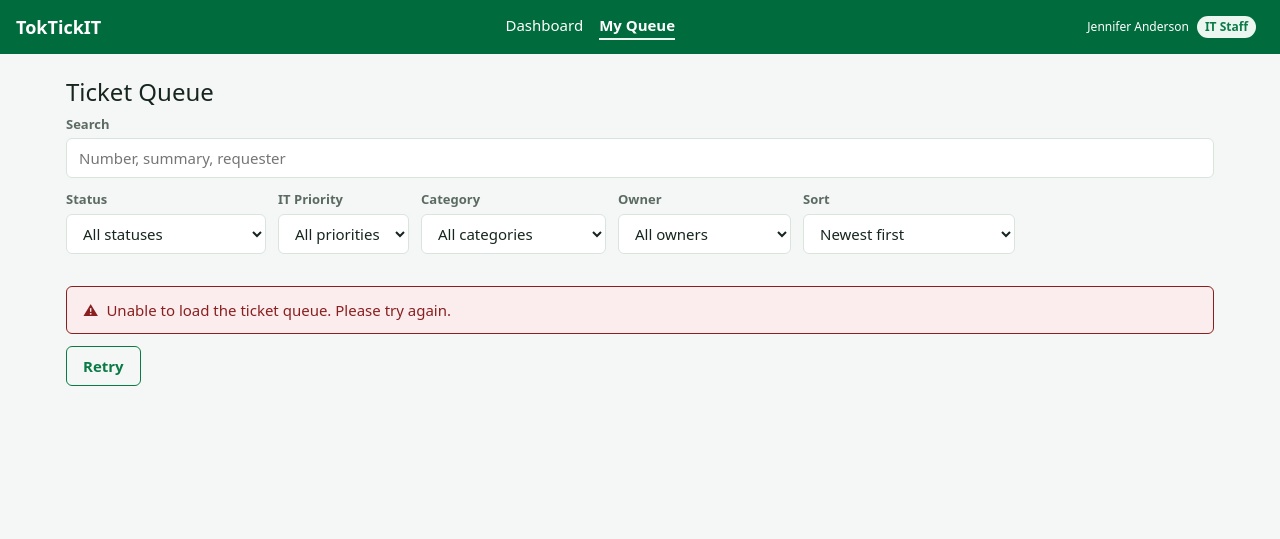
Test: IT Staff Ticket Queue screen › shows a safe failure state with Retry when the request fails
Expected: the text "Unable to load the ticket queue. Please try again." is shown, [106,299,451,321]
Click the button "Retry". click: (103, 366)
box: [66,346,141,386]
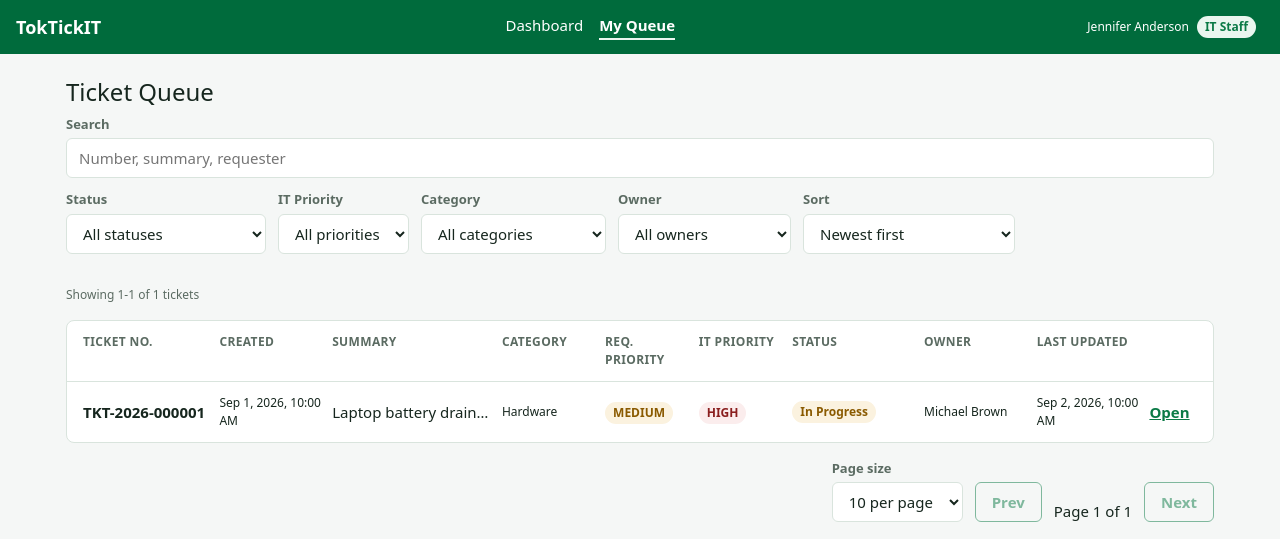
Expected: the text "Laptop battery drains quickly" is shown, [332,400,494,423]
